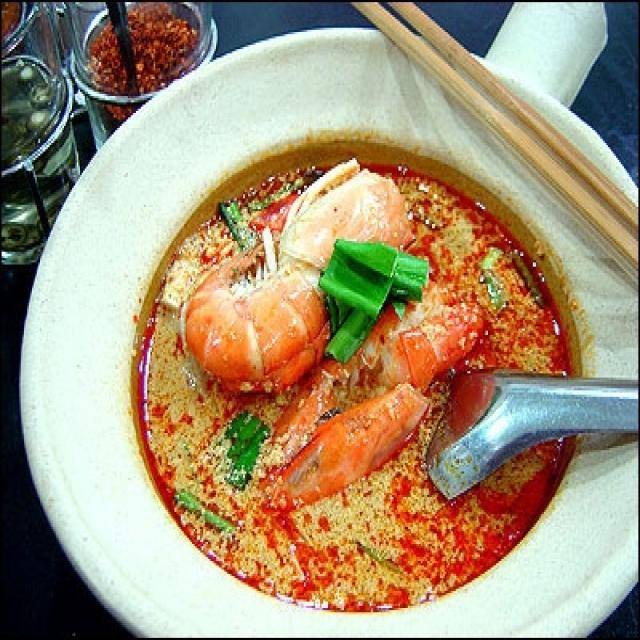汤锅炖物: (36, 49, 634, 629)
